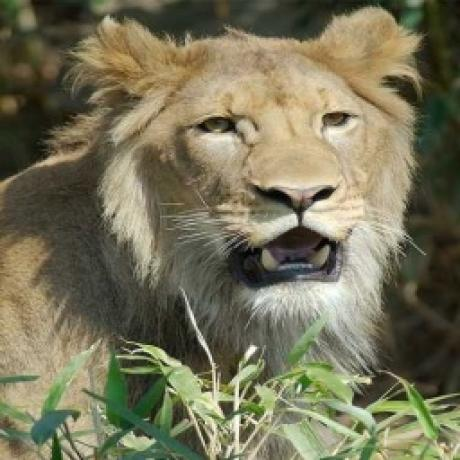Lion: (0, 3, 420, 427)
